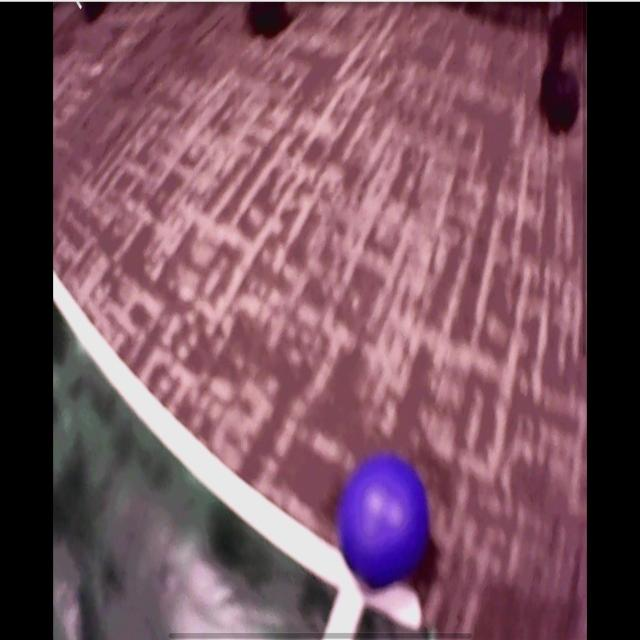ball: (340, 457, 430, 588)
